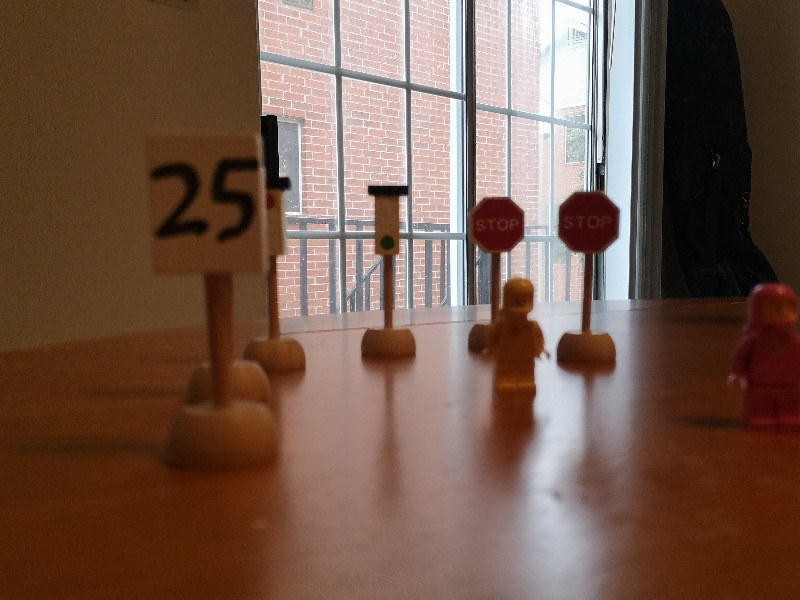Green Traffic Light: (367, 184, 407, 259)
Person: (724, 284, 800, 432), (482, 278, 553, 397)
Red Traffic Light: (266, 178, 291, 261)
Speed Limit 25: (145, 132, 267, 277)
Stop Sign: (558, 191, 622, 259), (466, 196, 526, 255)
